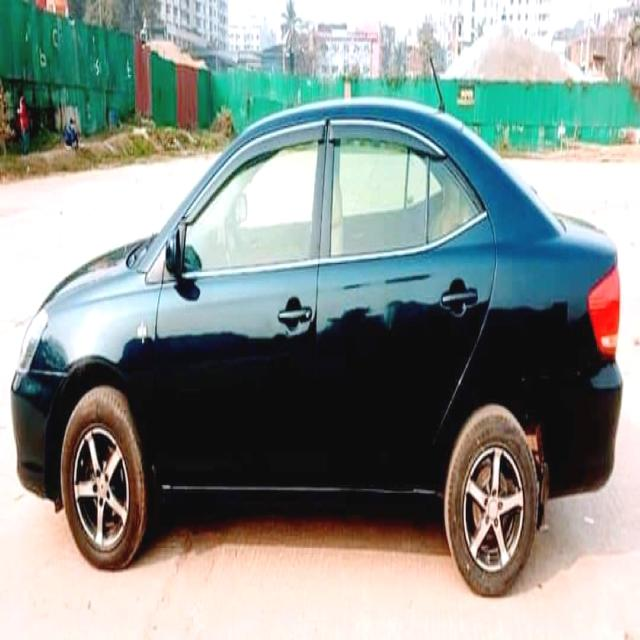black: (13, 82, 621, 579)
